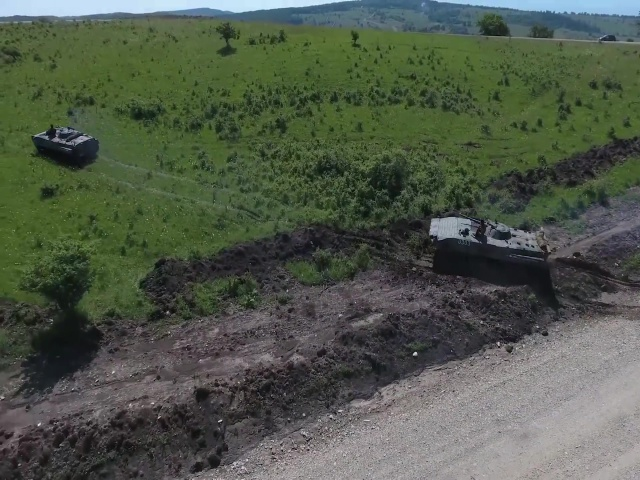vehicle: (424, 212, 550, 271), (33, 124, 101, 167)
